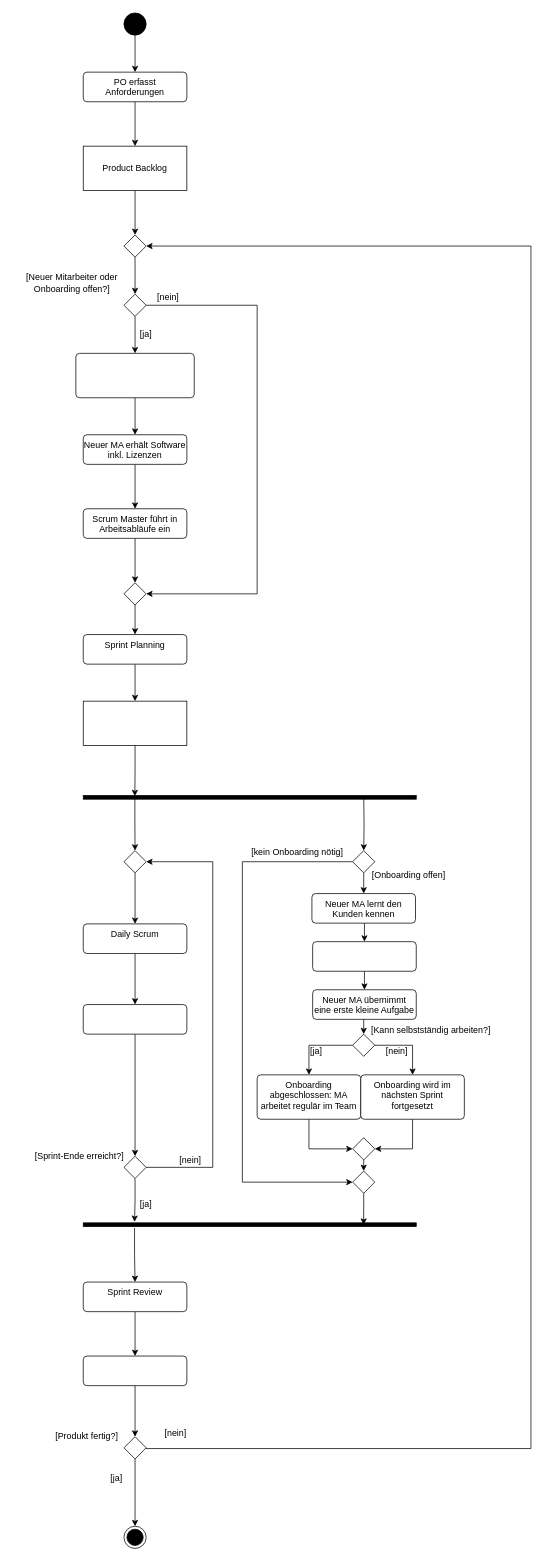
The diagram is 550 pixels wide and 1561 high, and some of its shapes have lost their labels. Here are the shapes that lost their labels. From the top down, the centre of each, then its label:
the point at 134,375: Neuer MA wird mit Entwicklungswerkzeugen ausgestattet
the point at 135,723: Sprint Backlog
the point at 364,956: Neuer MA arbeitet sich in die Projektstruktur ein
the point at 135,1019: Team arbeitet Sprint Backlog ab
the point at 135,1370: Sprint Retrospektive
